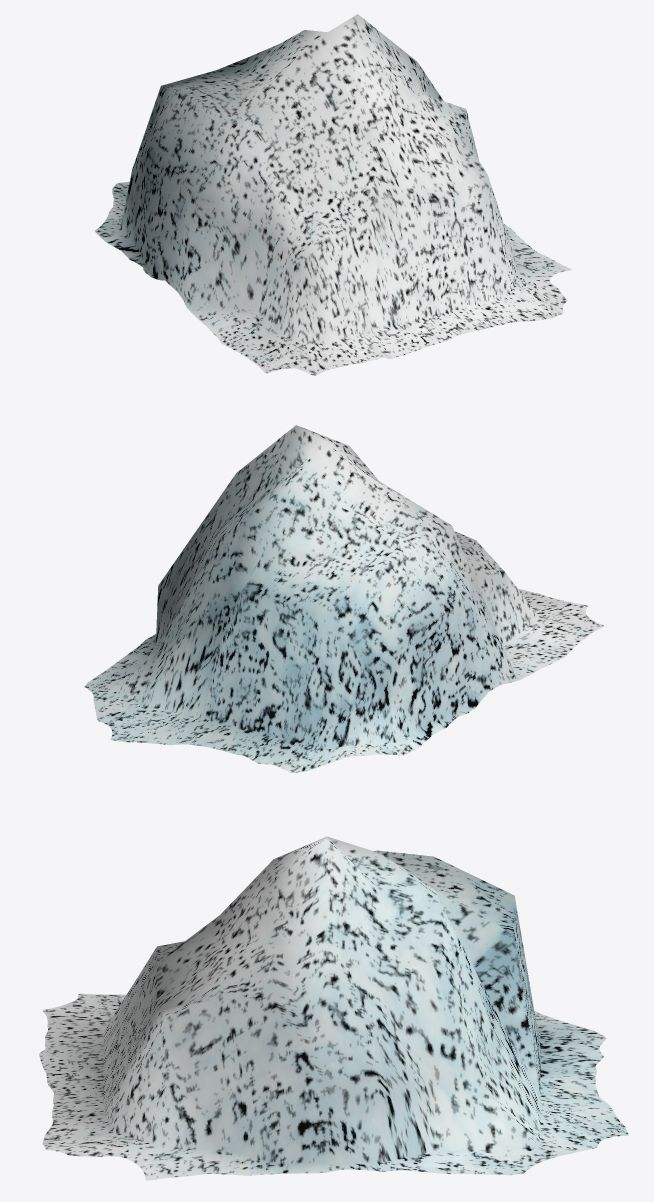
File: SnowPile1.fbx
3 views of the same model, one above another, from view 1: azimuth 30°, elevation 25°; view 2: azimuth 150°, elevation 25°; view 3: azimuth 270°, elevation 25° (orthographic). The views are drawn at different scales.
Visible parts, largest first — view 1: pPlane1; view 2: pPlane1; view 3: pPlane1.
Part boxes in pixels (<box>): pPlane1: <box>94,14,571,375</box>; pPlane1: <box>84,425,603,772</box>; pPlane1: <box>39,836,628,1180</box>.
Size of the model in its own units: 317 by 195 by 416.
